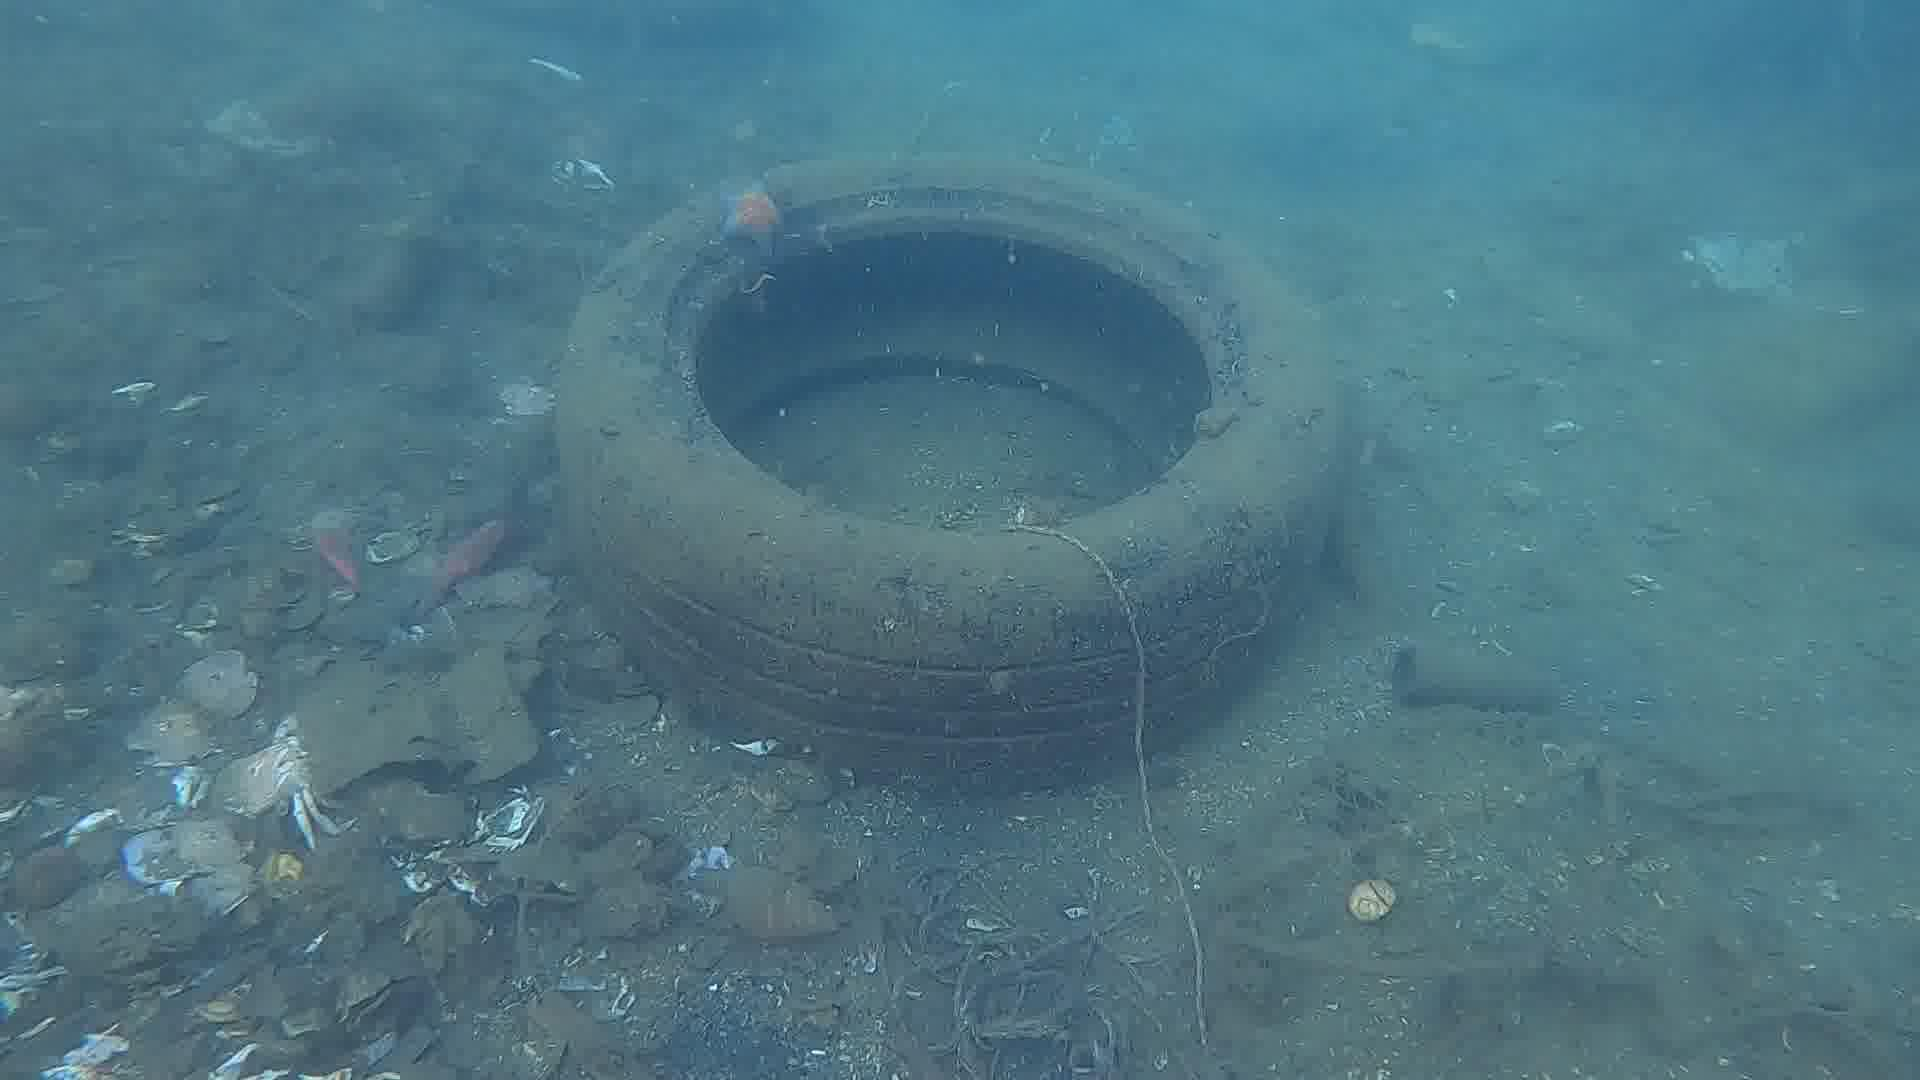rope: (994, 520, 1209, 1042)
tire: (551, 142, 1354, 798)
